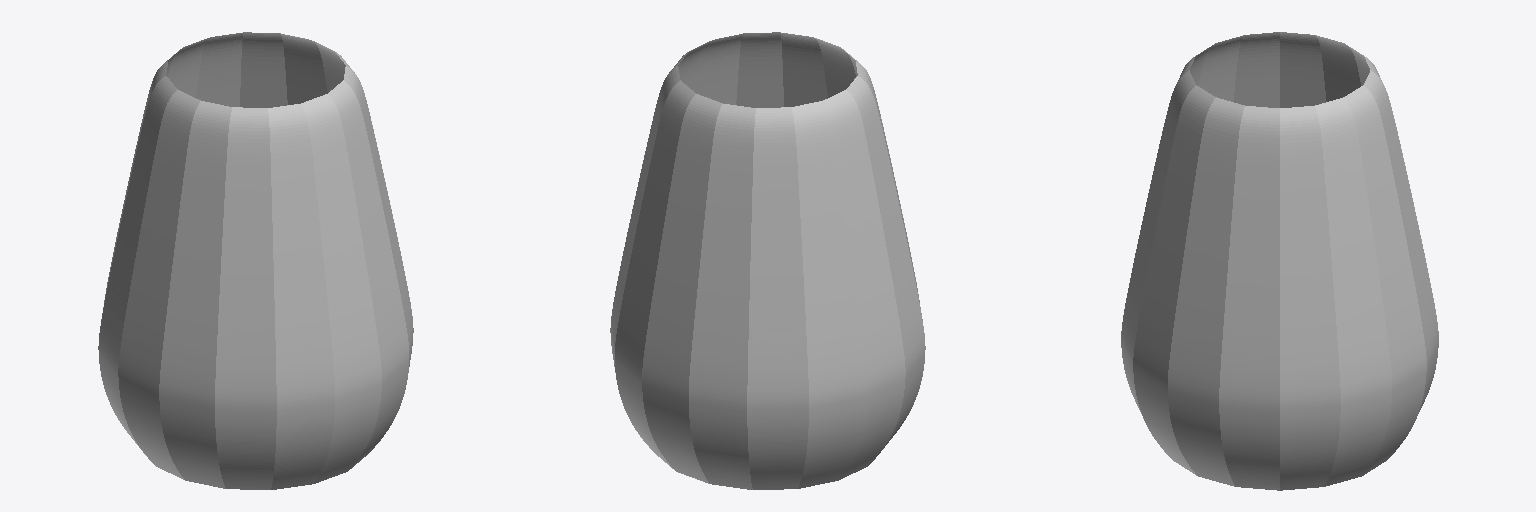
Rendered from lamp2.obj.
The picture shows the model from 3 angles: view 1: azimuth 30°, elevation 25°; view 2: azimuth 150°, elevation 25°; view 3: azimuth 270°, elevation 25°; orthographic projection.
Visible parts, largest first — view 1: Lampara.002_Lampara_NurbsPath.030; view 2: Lampara.002_Lampara_NurbsPath.030; view 3: Lampara.002_Lampara_NurbsPath.030.
Part boxes in pixels (x1,y1,x2,y2): Lampara.002_Lampara_NurbsPath.030: (98, 32, 413, 489); Lampara.002_Lampara_NurbsPath.030: (610, 32, 925, 489); Lampara.002_Lampara_NurbsPath.030: (1121, 32, 1438, 490).
Size of the model in its own units: 0.2621 by 0.3381 by 0.2621.